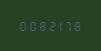eight: (35, 20, 43, 31), (71, 20, 79, 31)
one: (53, 20, 61, 31)
seven: (62, 20, 70, 31)
two: (44, 20, 52, 31)
zero: (17, 20, 25, 31), (26, 20, 34, 31)
